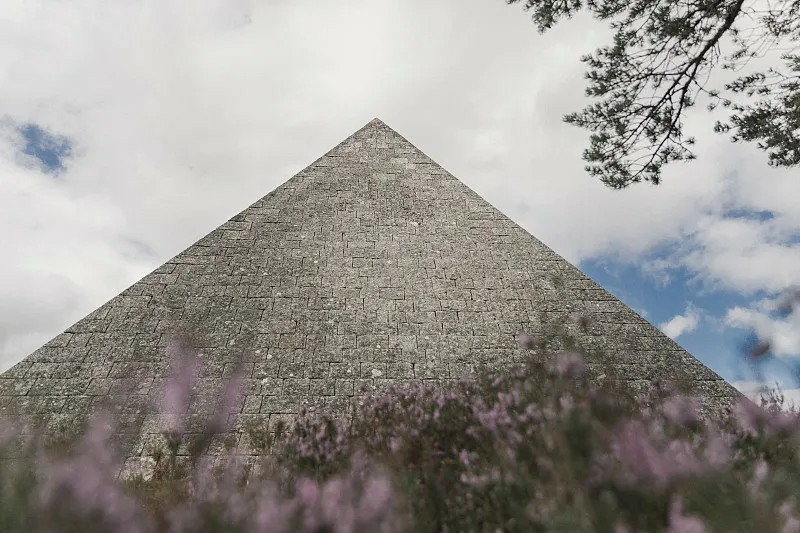Pyramid: (1, 120, 759, 469)
